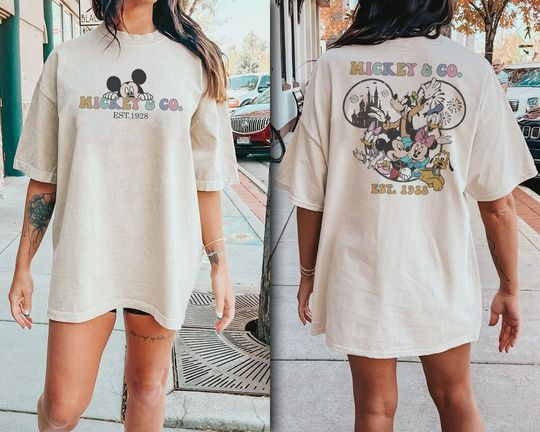design: (339, 57, 468, 197), (76, 66, 185, 120)
